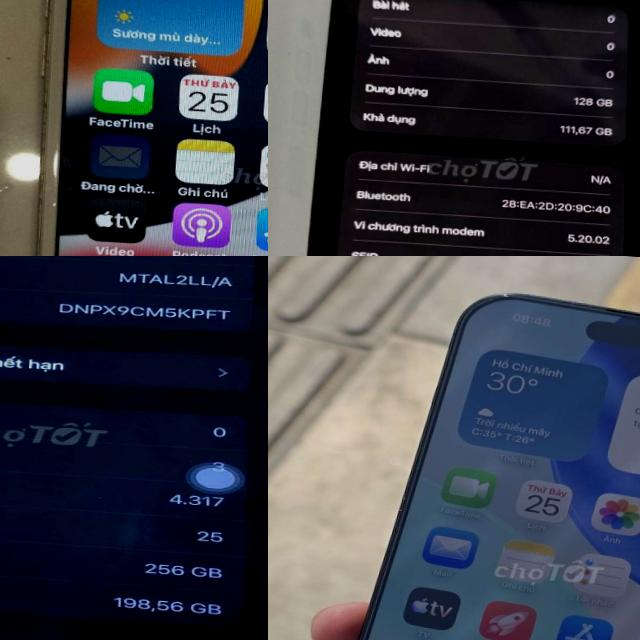gen_12_13: (279, 0, 640, 256)
gen_16: (358, 294, 640, 640)
gen_6: (38, 0, 268, 256)
gen_x_xs: (0, 256, 268, 640)
